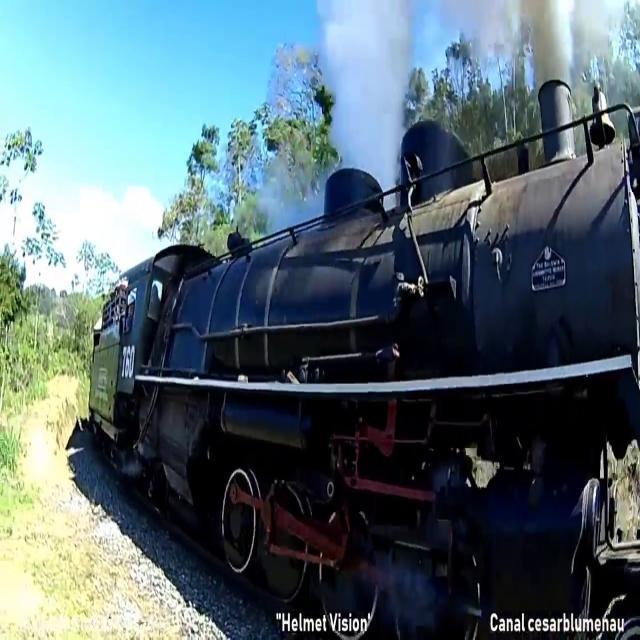Smoke: (314, 7, 414, 225), (516, 3, 632, 82), (260, 167, 307, 236)
